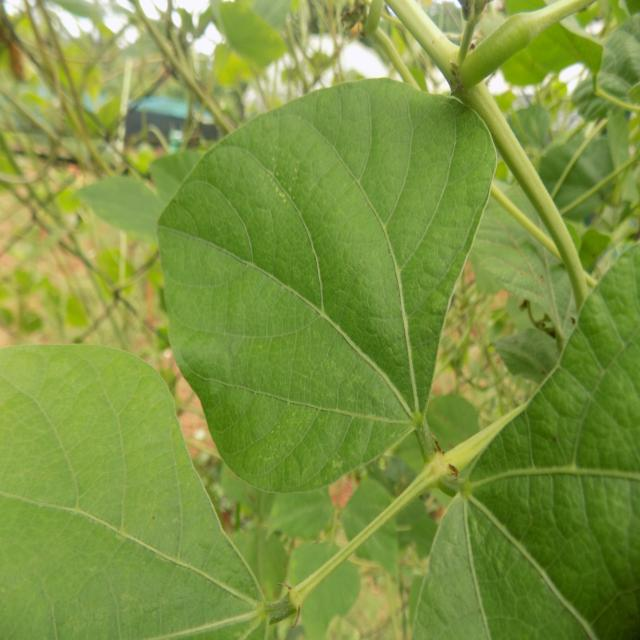Dolicos bean_healthy: (159, 77, 498, 495)
